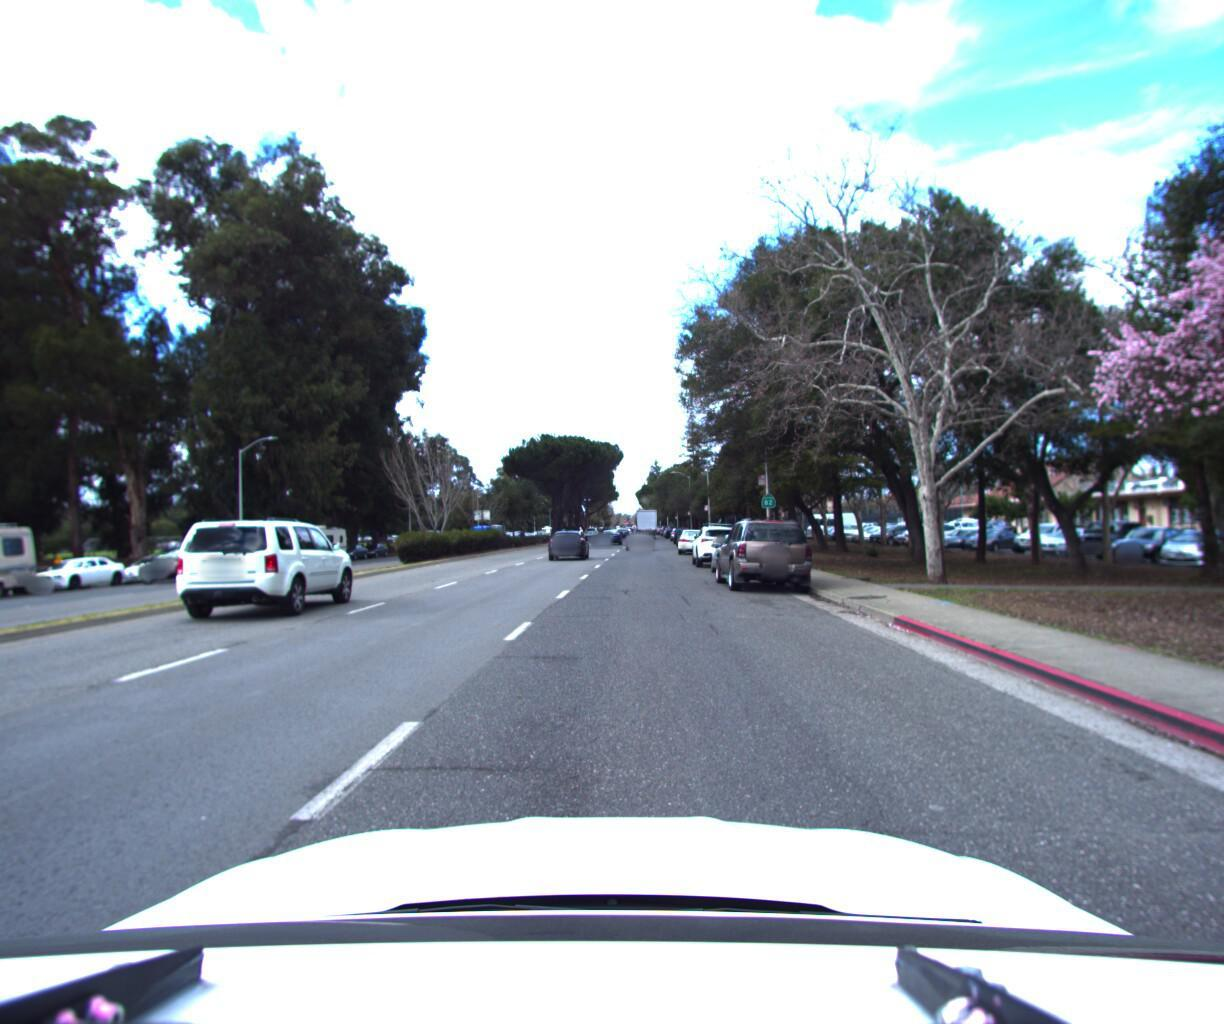car: (163, 516, 373, 628), (709, 513, 822, 597), (28, 555, 141, 597), (134, 543, 236, 588), (708, 531, 778, 580), (118, 553, 207, 588), (690, 521, 750, 569), (547, 528, 593, 562), (677, 527, 713, 556), (625, 525, 658, 552), (599, 528, 625, 545)
other_vehicle: (286, 526, 355, 570)
